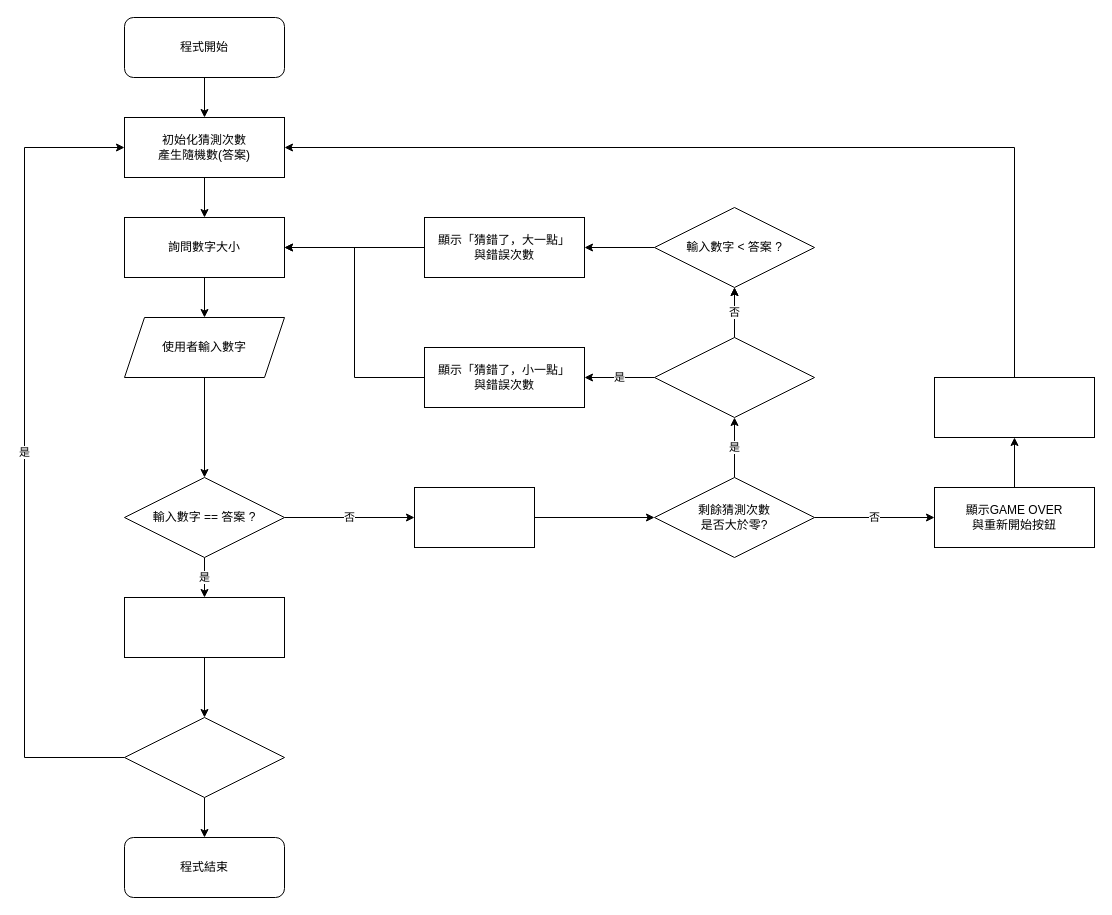
Image size: 1112x915. Some labels were removed from this diagram. Each missing label, with the box of its shape:
扣除一次猜測次數: (414, 486, 534, 548)
玩家按下「重新開始」: (934, 376, 1094, 438)
詢問是否重新開始?: (124, 716, 284, 798)
輸入數字 > 答案 ?: (654, 336, 814, 418)
顯示「Bingo!」 與總猜測次數: (124, 596, 284, 658)
